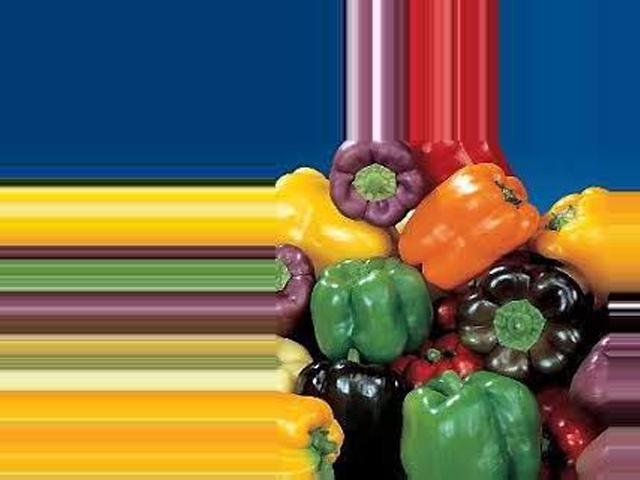bell_pepper: (404, 382, 547, 476)
